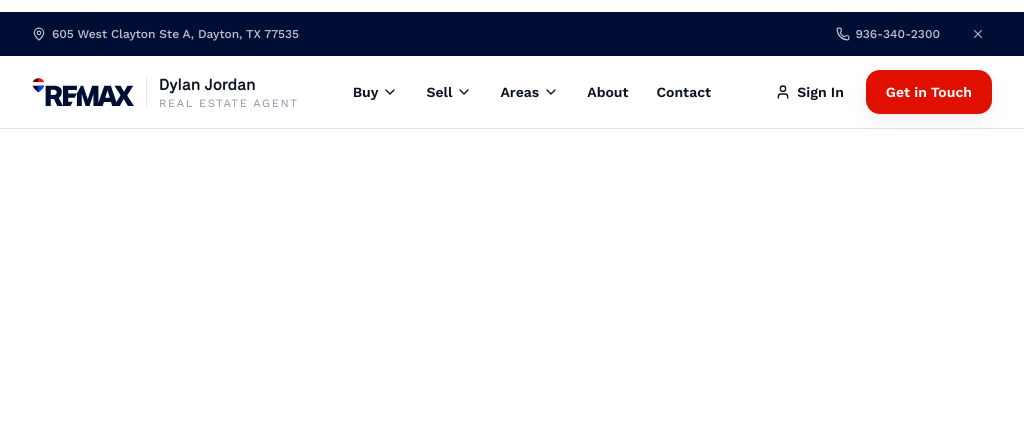
Test: header menus › shows one panel at a time
Step 1. Click the button "Buy" → [376, 92], box left=353, top=70, right=398, bottom=114
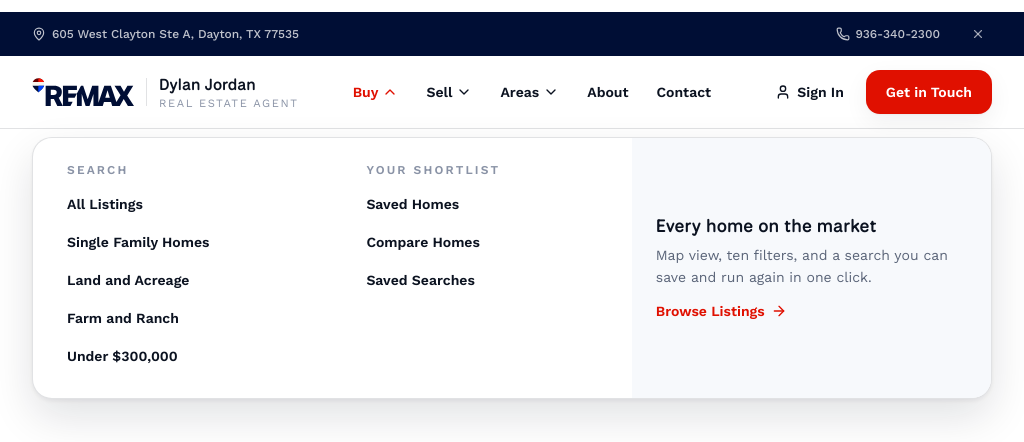
Step 2. Click the button "Areas" → [530, 92], box left=500, top=70, right=559, bottom=114
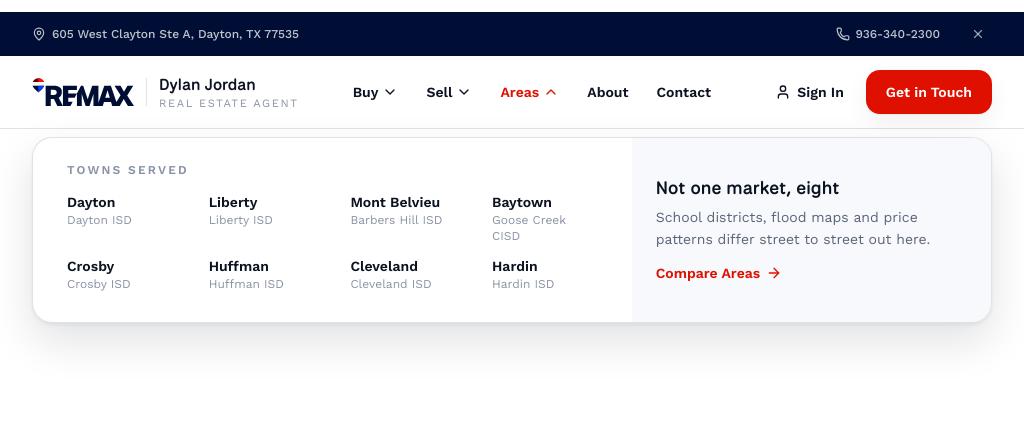
Expected: the button "Buy" is collapsed, left=353, top=70, right=398, bottom=114
Expected: the button "Areas" is expanded, left=500, top=70, right=559, bottom=114
